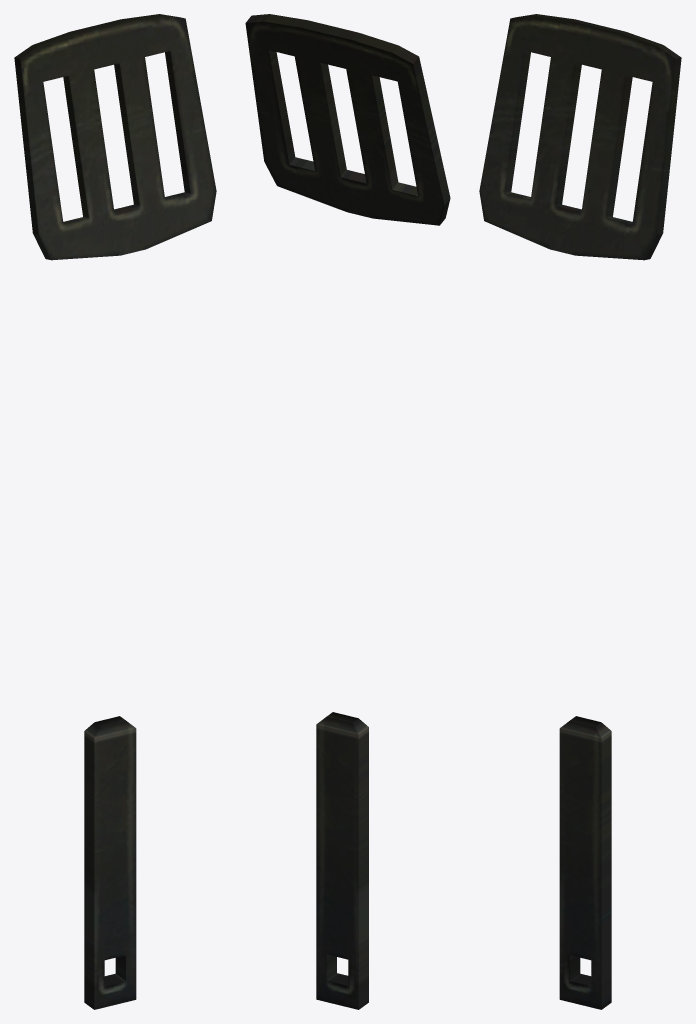
Rendered from Whale_chefWeapon_Lance.obj.
3 views of the same model, side by side, from view 1: azimuth 30°, elevation 25°; view 2: azimuth 150°, elevation 25°; view 3: azimuth 330°, elevation 25° (orthographic).
Visible parts, largest first — view 1: Whale_chefWeapon_tri [Lance]; view 2: Whale_chefWeapon_tri [Lance]; view 3: Whale_chefWeapon_tri [Lance].
Boxes of the visible parts, x1,y1,x2,y2 form: Whale_chefWeapon_tri [Lance]: [14, 14, 216, 1009]; Whale_chefWeapon_tri [Lance]: [245, 14, 450, 1009]; Whale_chefWeapon_tri [Lance]: [479, 14, 681, 1009].
Size of the model in its own units: 0.3041 by 1.58 by 0.1123.
1 material, 1 textured.
